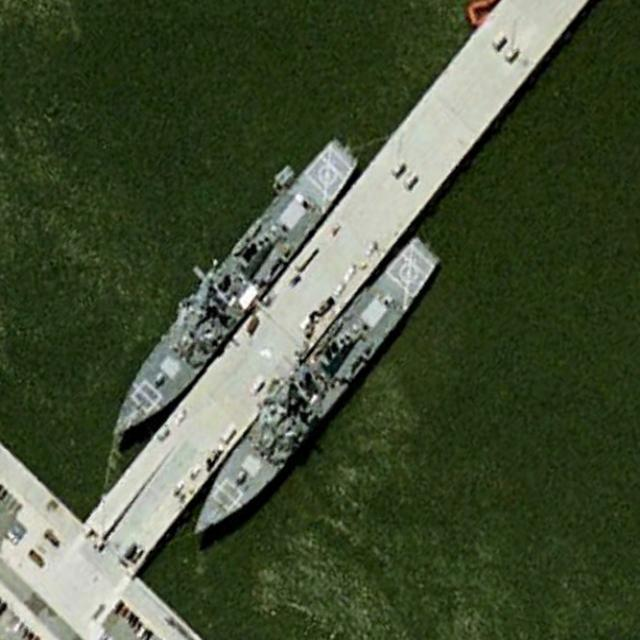Destroyer: (92, 125, 366, 456), (176, 228, 448, 553)
